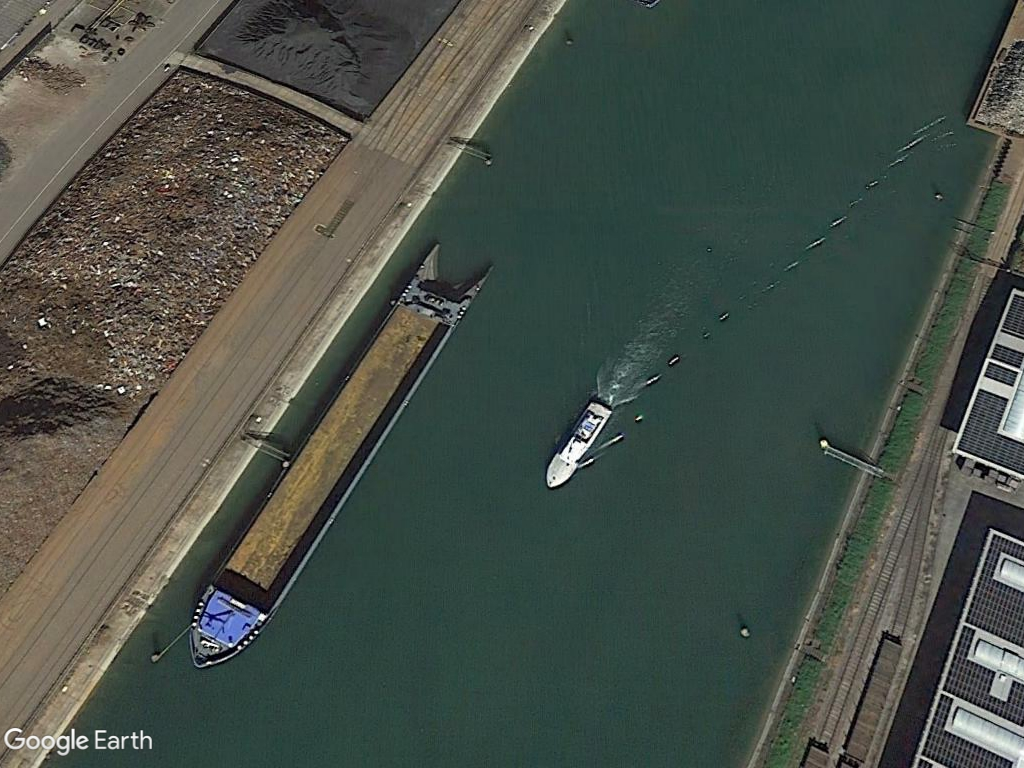boat: (185, 235, 495, 674), (540, 392, 616, 499)
